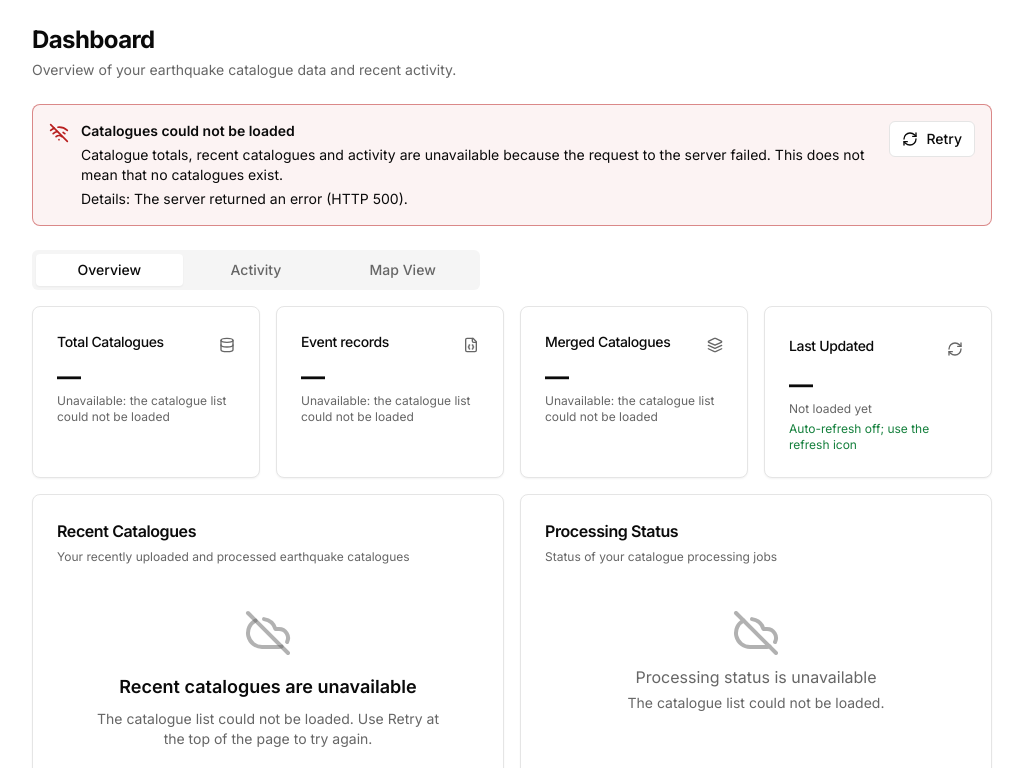
Test case: dashboard page › shows a failure with Retry, and unavailable totals instead of zeros
This screenshot has width=1024, height=768.
Expected: the message shows "Catalogues could not be loaded", [81,122,295,139]
Expected: the heading "Recent catalogues are unavailable" is shown, [119,676,417,697]
Click the button "Retry" at (932, 139), box [889,121,975,157]
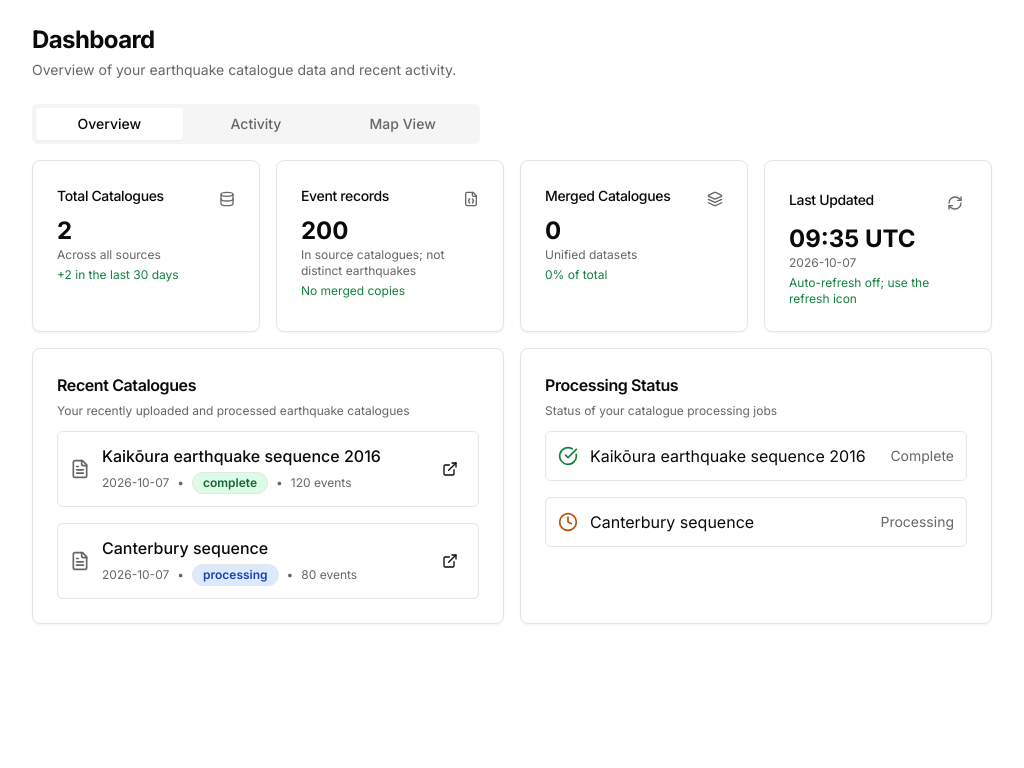
Now the message "Catalogues could not be loaded Catalogue totals, recent catalogues and activity" is gone
